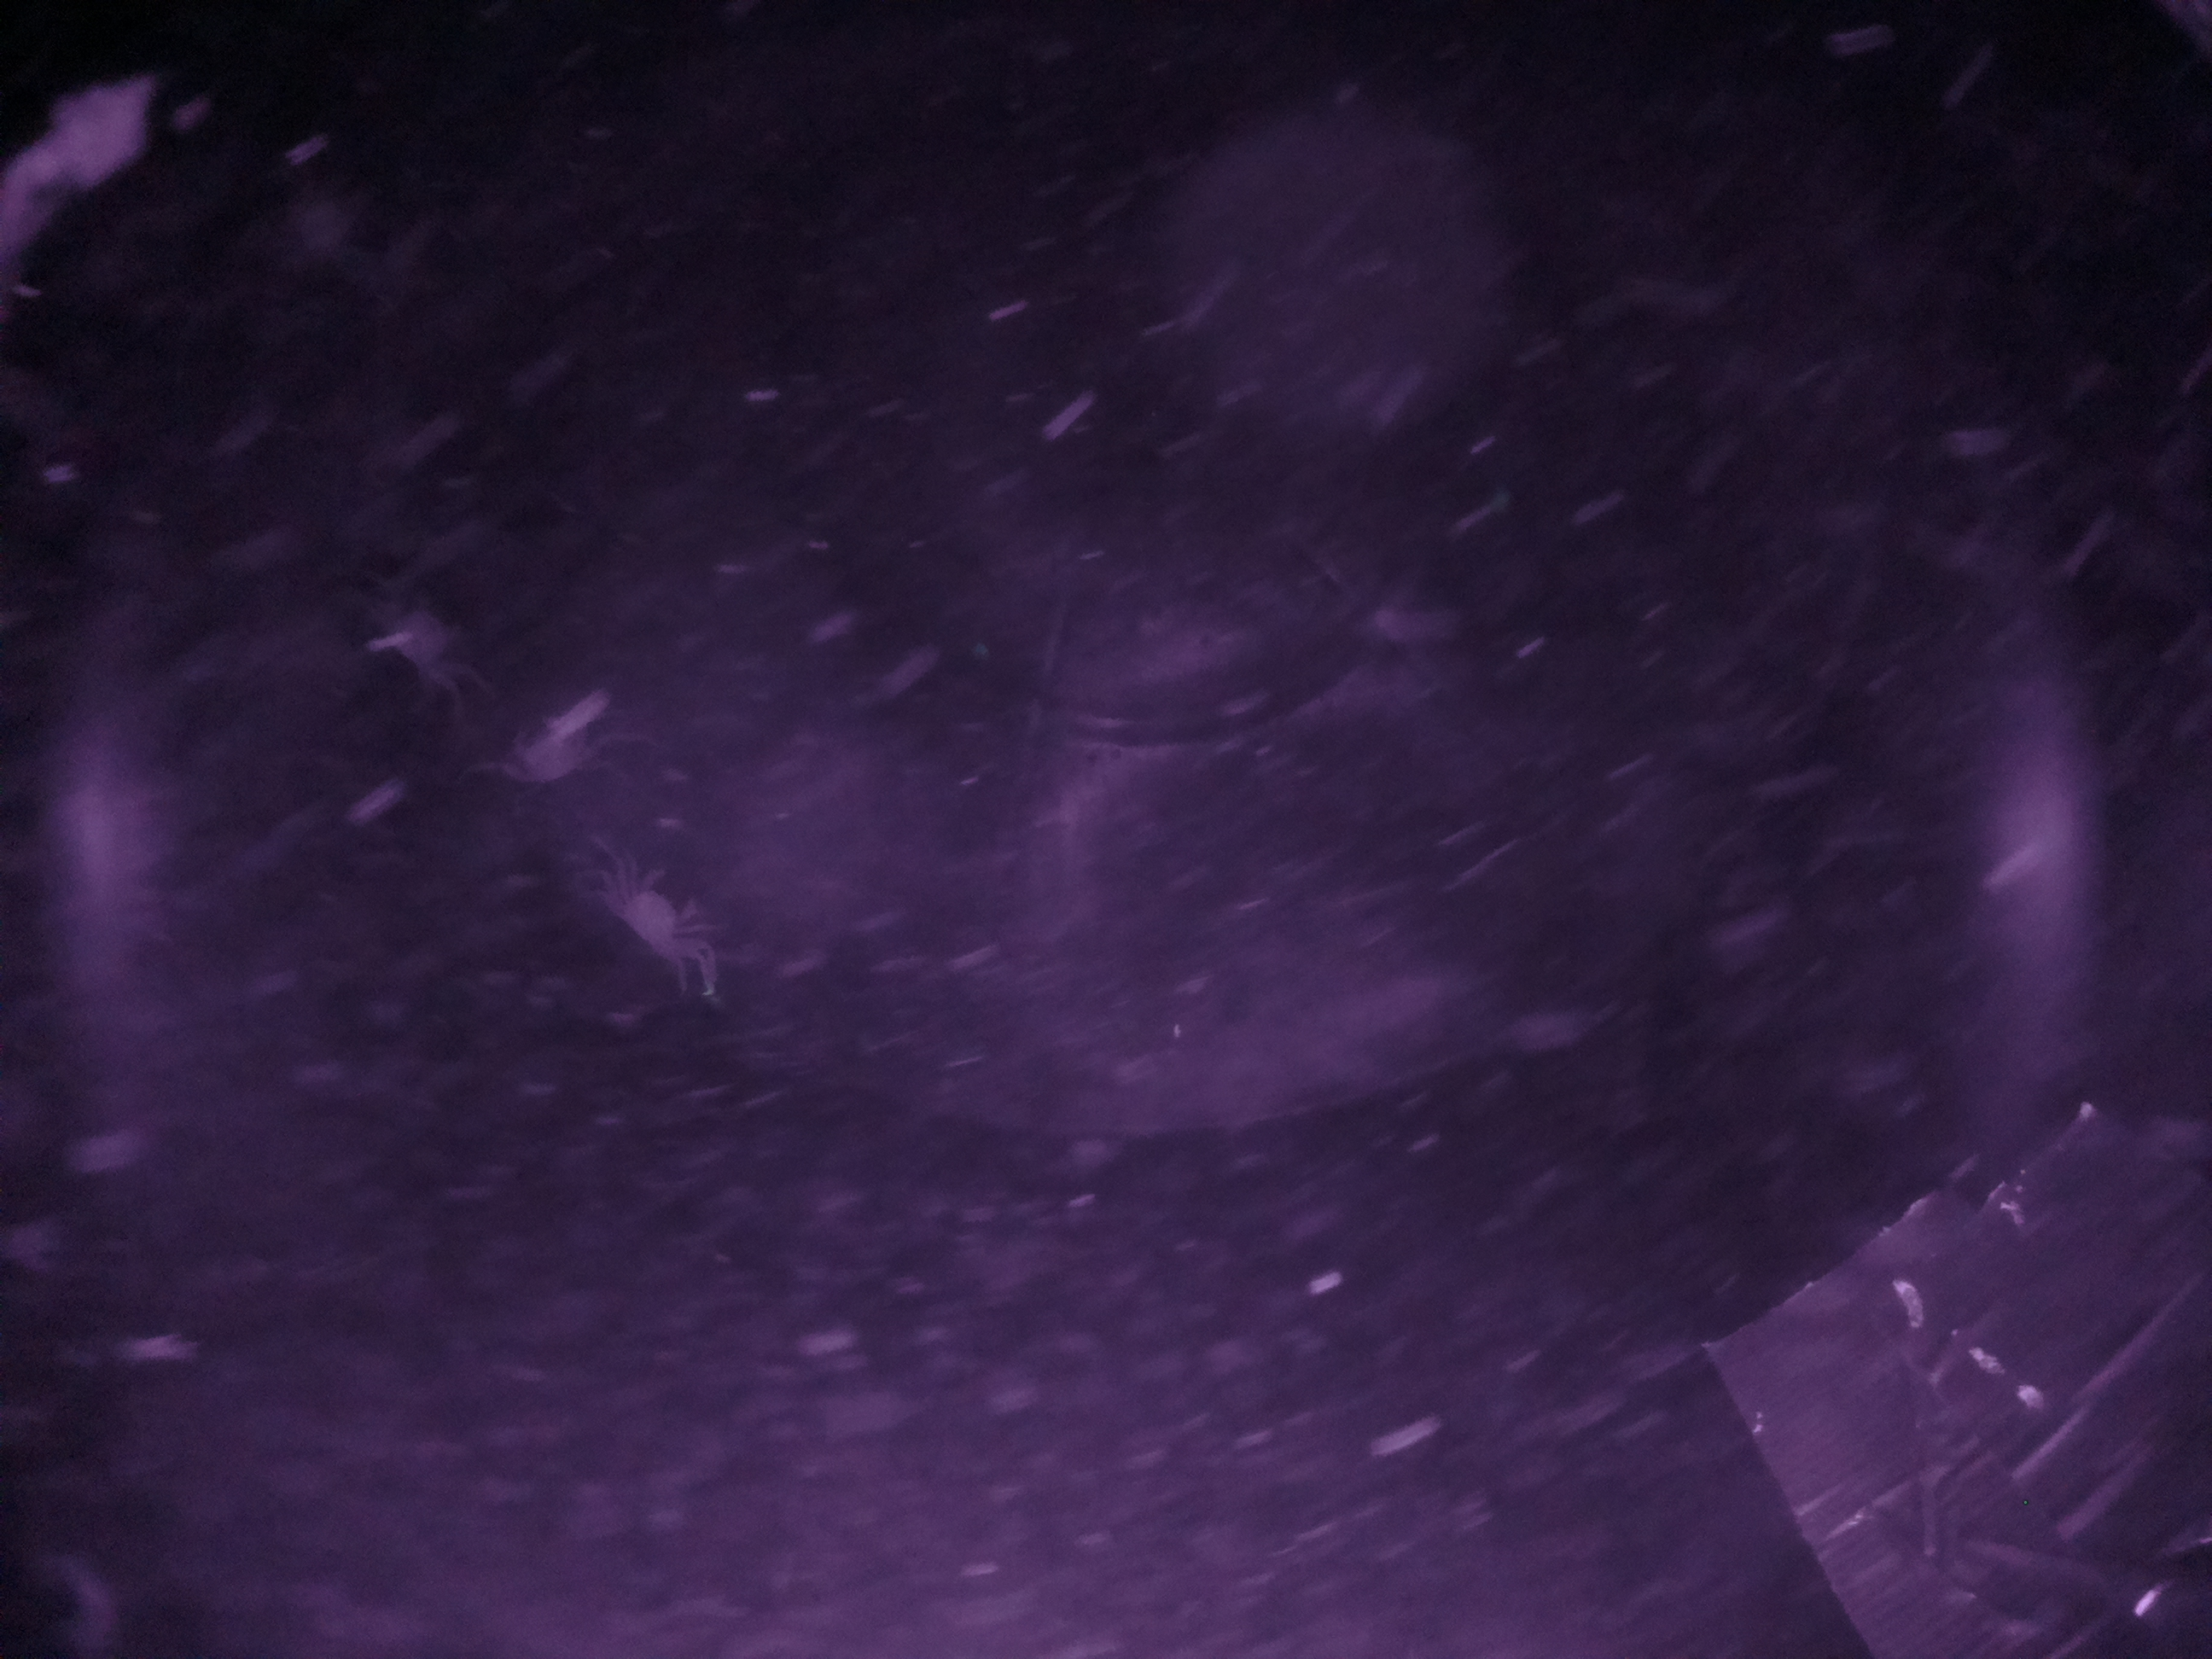Crab: (587, 838, 718, 997)
